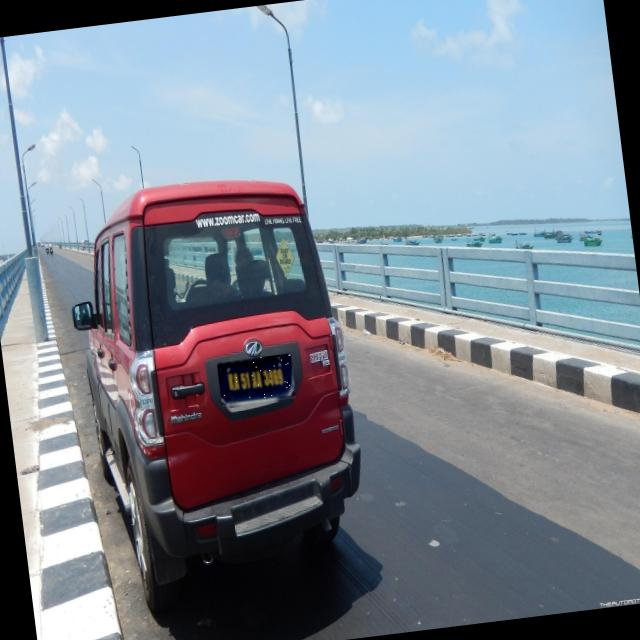Plate: (218, 355, 297, 410)
